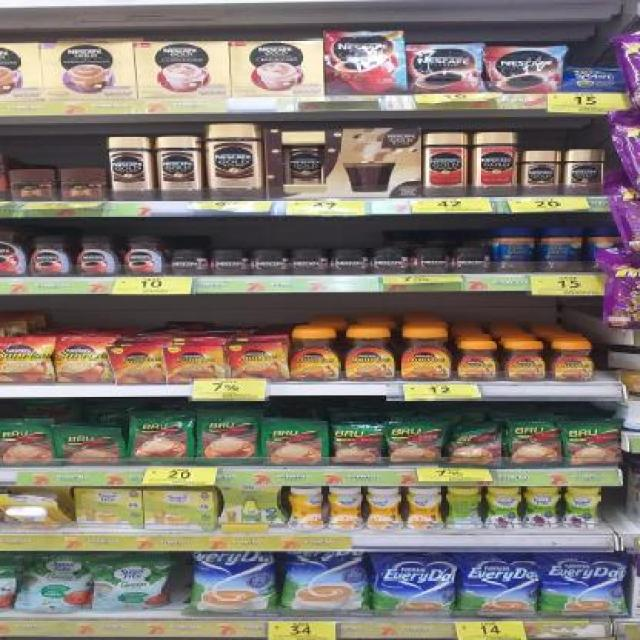Coffee: (325, 33, 409, 95), (206, 123, 259, 197), (408, 44, 484, 91), (486, 47, 562, 93), (292, 330, 346, 382), (400, 330, 454, 381), (159, 136, 203, 198), (345, 330, 397, 381), (0, 338, 55, 384), (55, 340, 111, 384), (112, 138, 152, 198), (75, 237, 120, 277), (503, 342, 548, 381), (456, 342, 501, 381), (551, 342, 595, 381), (567, 150, 604, 196), (122, 237, 166, 275), (522, 151, 560, 194), (29, 238, 71, 276), (253, 250, 287, 275), (211, 250, 246, 274), (456, 247, 489, 271), (296, 250, 327, 275), (172, 250, 205, 273), (374, 250, 406, 272), (335, 250, 367, 272), (417, 250, 448, 272)
